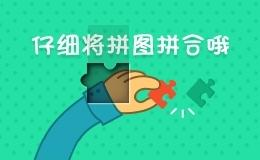target: (64, 43, 108, 83)
